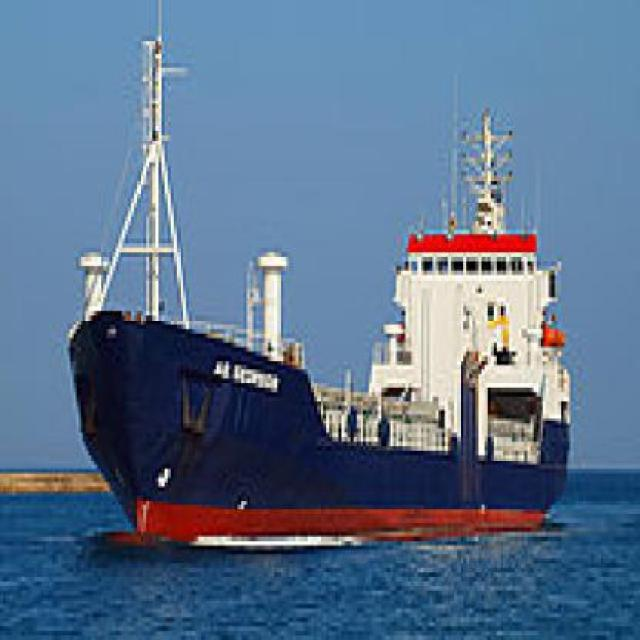container: (44, 87, 581, 561)
